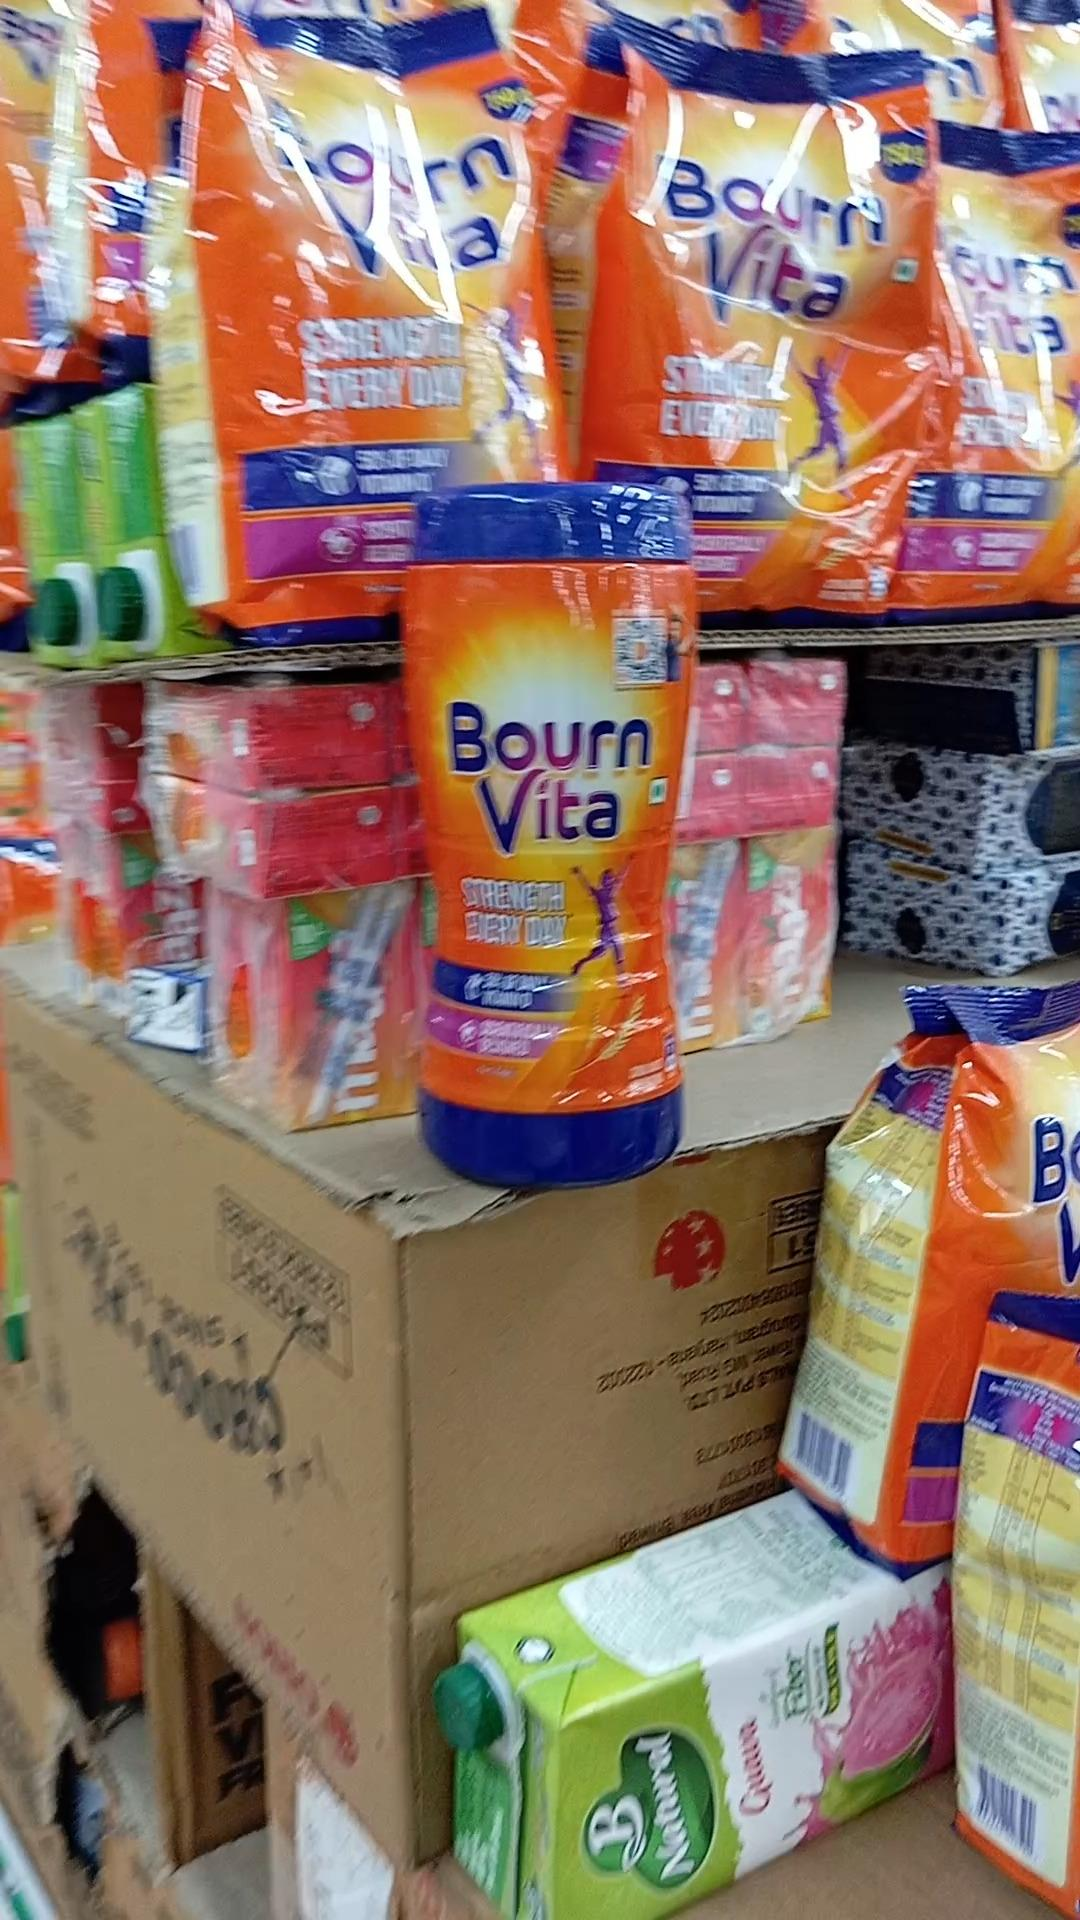COMPLAN_CHOCOLATE_200_GMS_JAR: (407, 471, 695, 1185)
